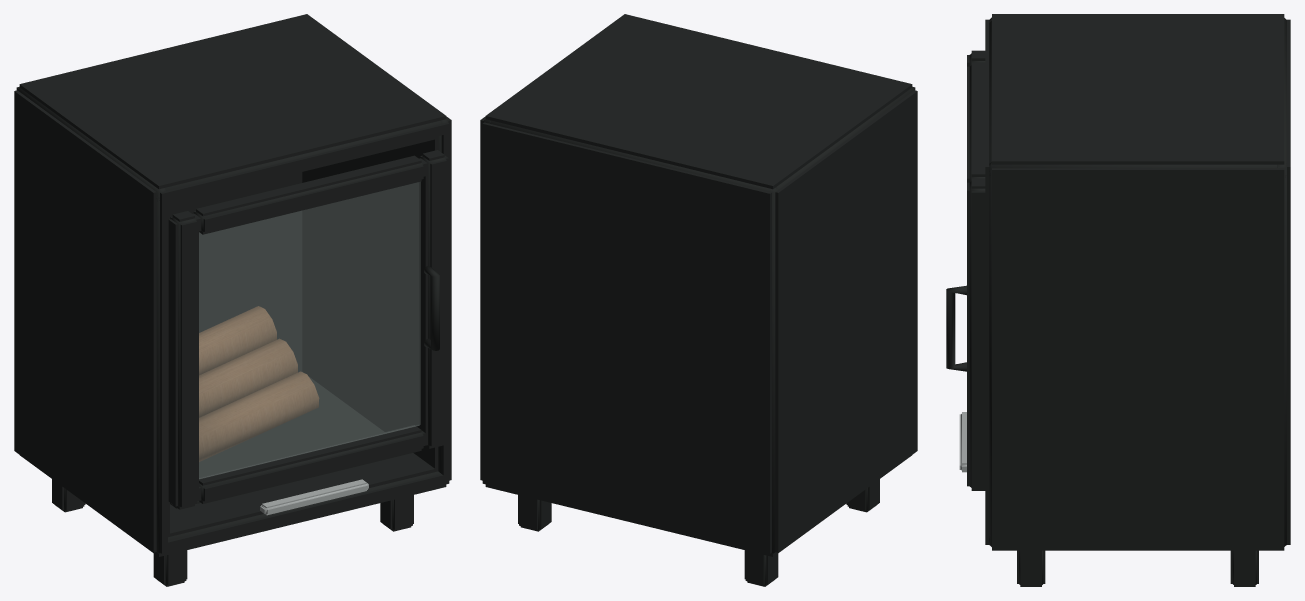
Rendered from traditional.stove.gltf.
The picture shows the model from 3 angles, left to right: view 1: azimuth 30°, elevation 25°; view 2: azimuth 150°, elevation 25°; view 3: azimuth 270°, elevation 25°; orthographic projection. The views are drawn at different scales.
Parts seen in each view (by area): view 1: traditional.stove.foot; view 2: traditional.stove.foot; view 3: traditional.stove.foot.
Part boxes in pixels (x1,y1,x2,y2): traditional.stove.foot: [14, 14, 451, 586]; traditional.stove.foot: [480, 14, 917, 586]; traditional.stove.foot: [946, 14, 1290, 586].
Size of the model in its own units: 0.45 by 0.6 by 0.4286.
4 materials, 1 textured.
